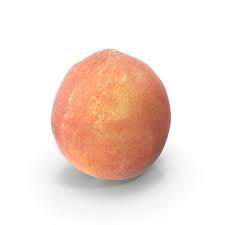non-mango: (50, 47, 171, 181)
